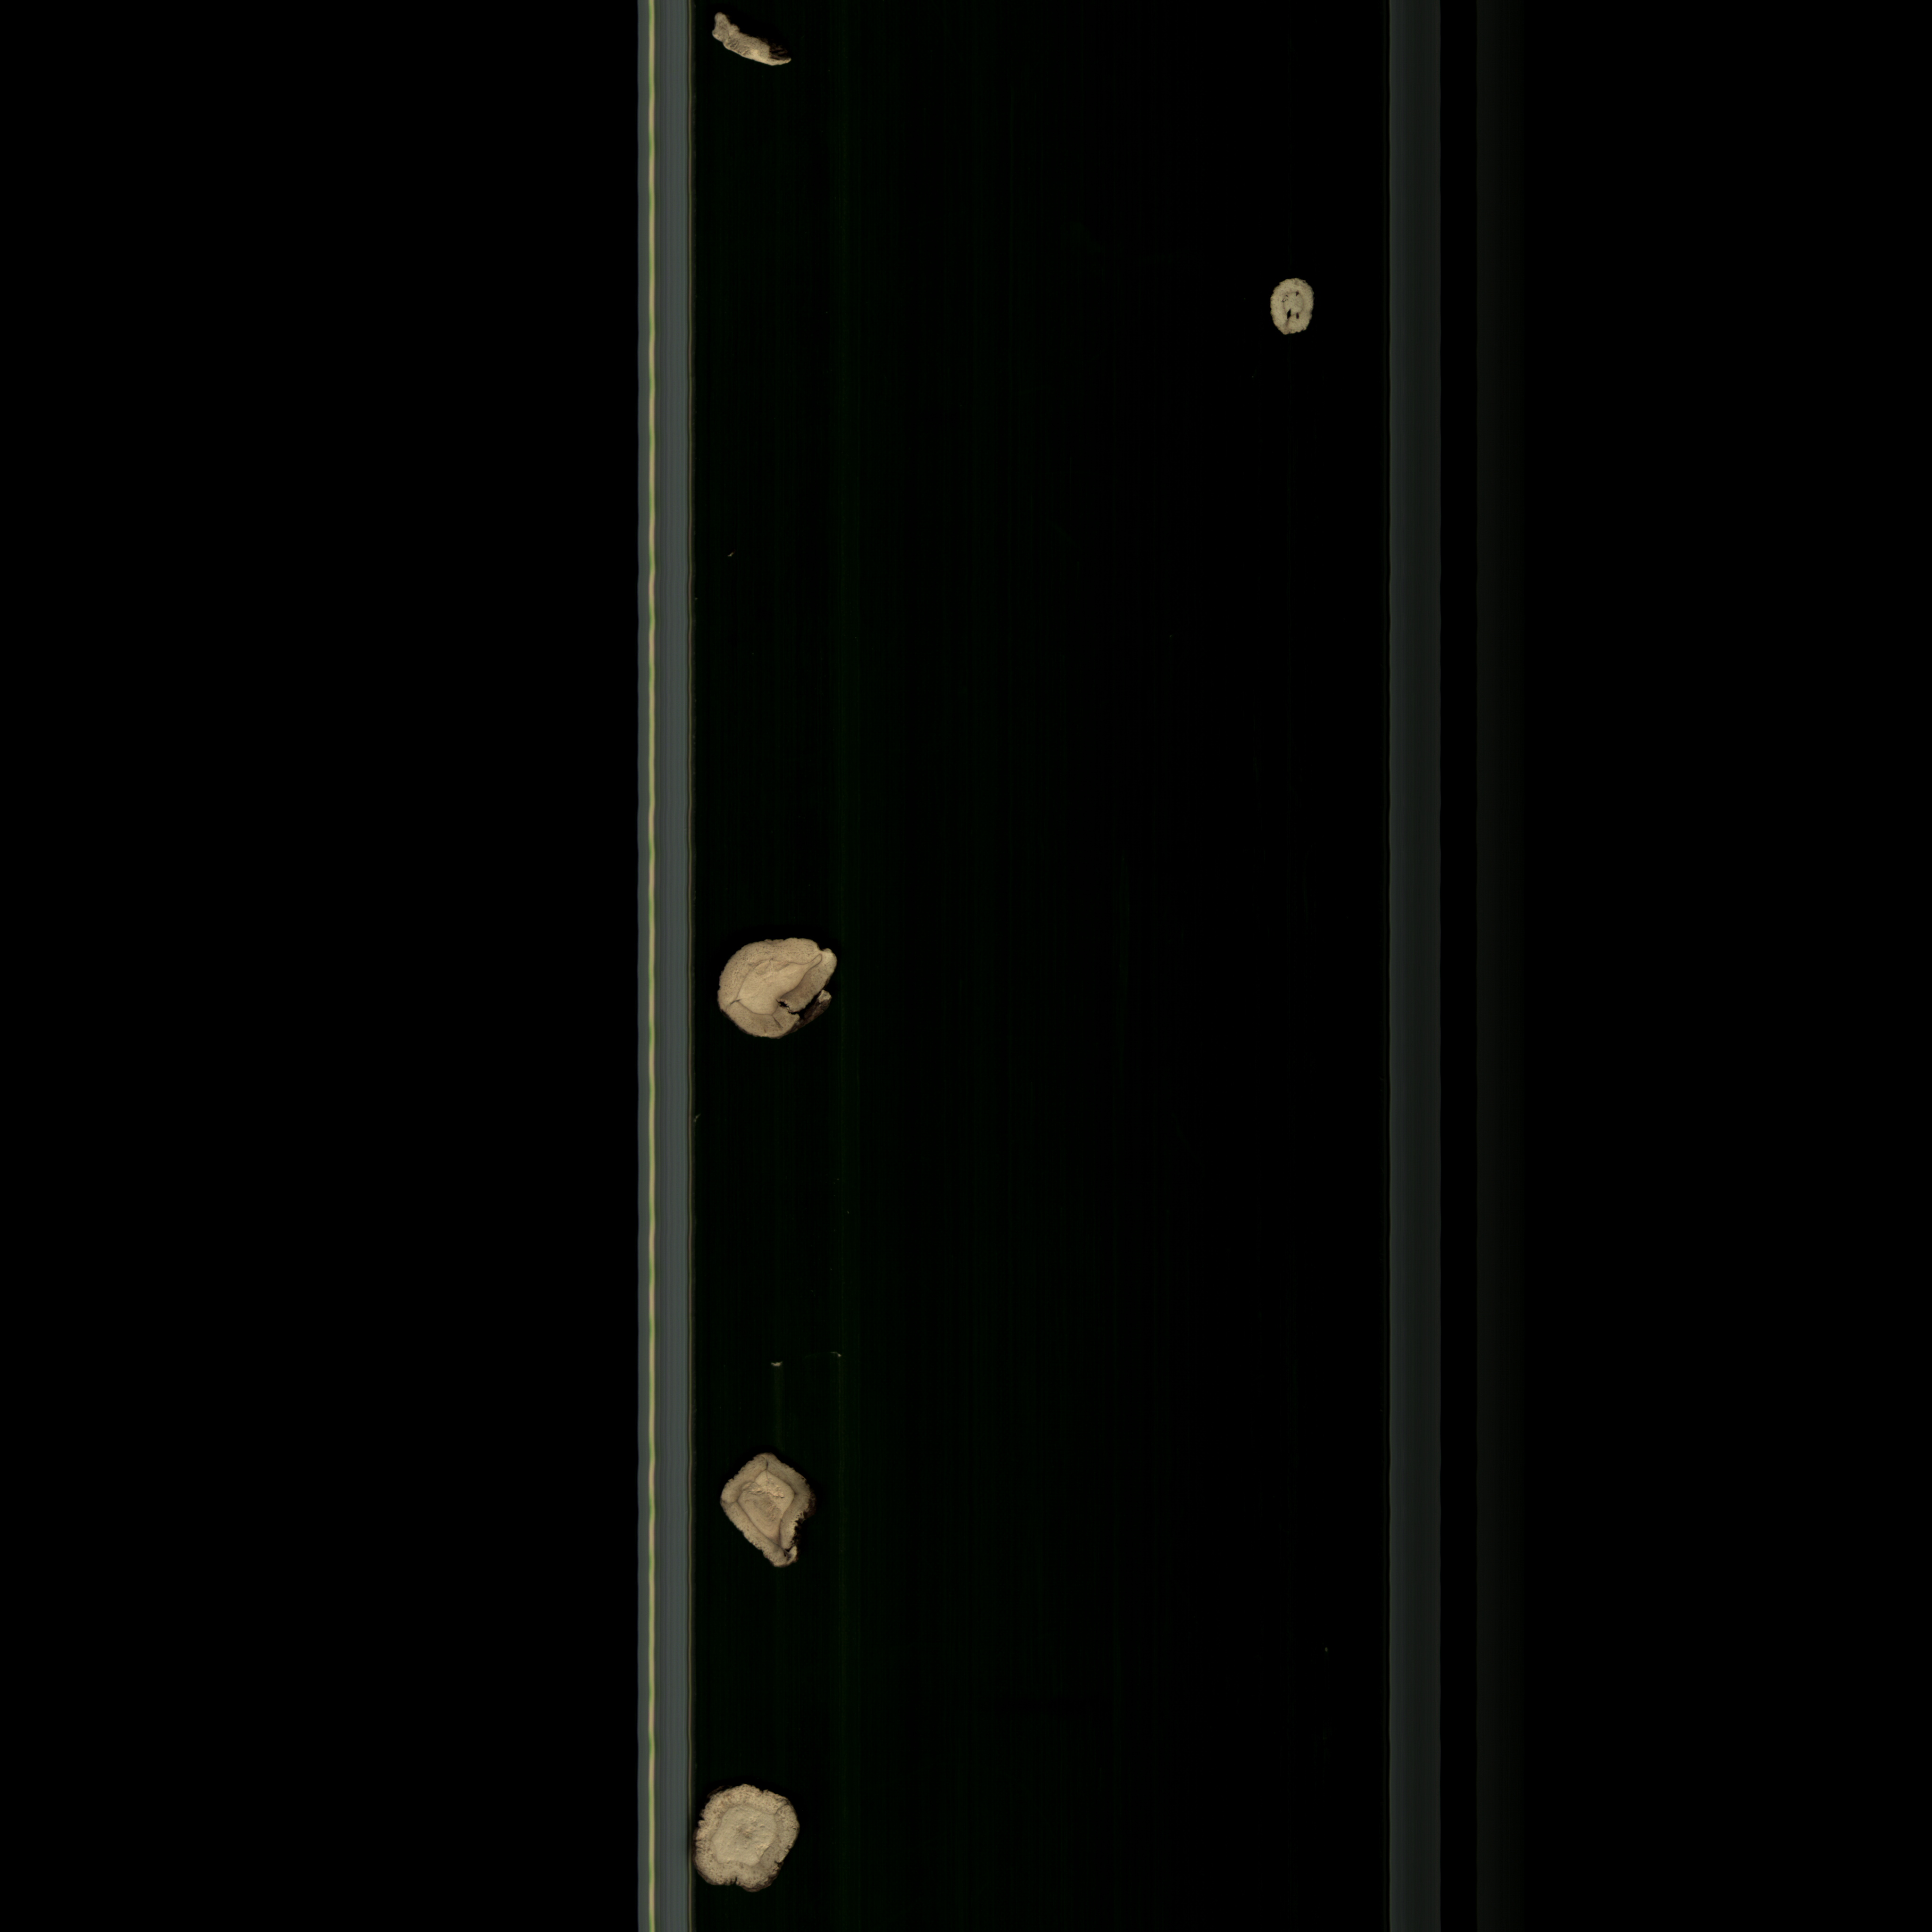debris: (708, 5, 801, 88)
distortion: (697, 1769, 807, 1911)
hole: (1256, 269, 1322, 349)
moldy: (701, 929, 855, 1049), (713, 1445, 823, 1585)
